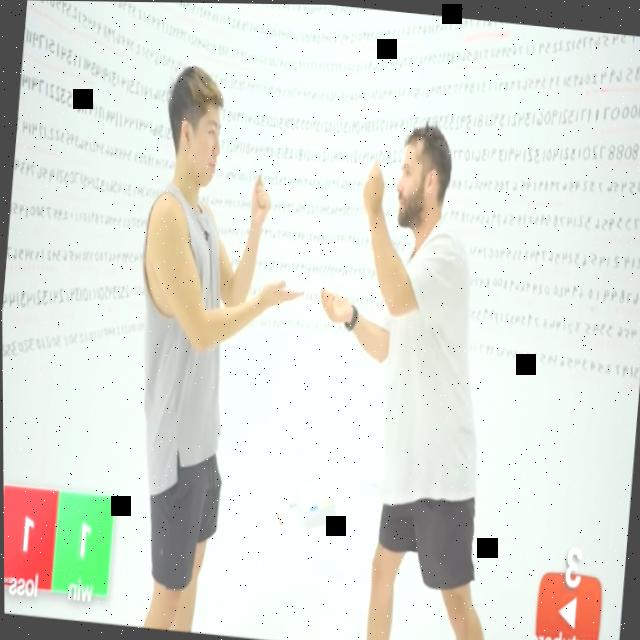Rock: (360, 152, 388, 213), (249, 175, 271, 219)
